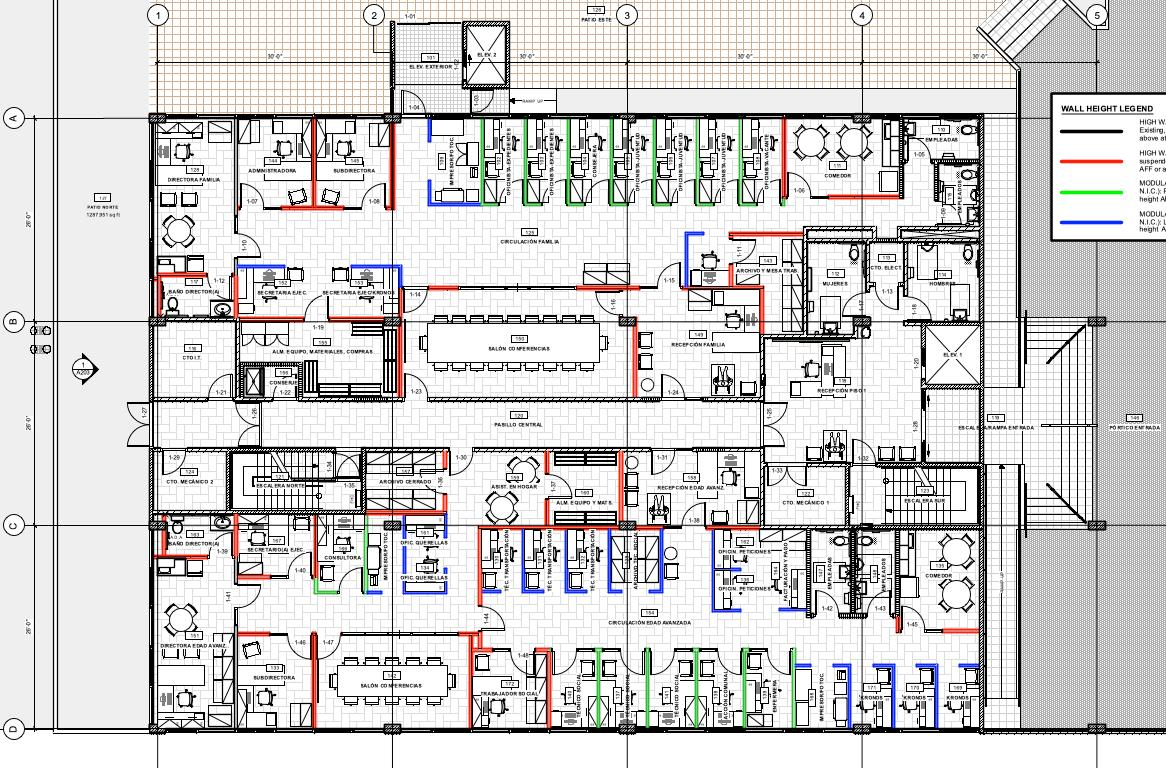room: (401, 287, 635, 399), (314, 634, 472, 730), (153, 556, 237, 730), (634, 288, 759, 399), (237, 318, 400, 399), (154, 118, 236, 273), (621, 450, 761, 526), (785, 117, 901, 196), (897, 529, 981, 631), (849, 464, 981, 526), (237, 267, 400, 317), (236, 634, 314, 730), (731, 233, 803, 336), (314, 115, 392, 208), (236, 116, 313, 209), (153, 320, 237, 398), (472, 649, 549, 729), (805, 240, 867, 337), (907, 241, 981, 321), (763, 464, 849, 527), (548, 450, 621, 524), (235, 513, 317, 578), (364, 449, 444, 512), (808, 528, 854, 616), (315, 513, 366, 592), (744, 649, 794, 729), (647, 649, 696, 729), (549, 649, 598, 729), (654, 116, 698, 204), (696, 649, 745, 728), (853, 529, 897, 616), (741, 115, 784, 204), (697, 115, 740, 204), (525, 116, 568, 205), (599, 649, 647, 728), (611, 116, 654, 204), (569, 116, 611, 204), (483, 116, 525, 204), (158, 274, 236, 320), (902, 117, 983, 161), (153, 513, 235, 556), (405, 513, 447, 592), (366, 513, 404, 593), (937, 164, 981, 227), (867, 239, 905, 284)
